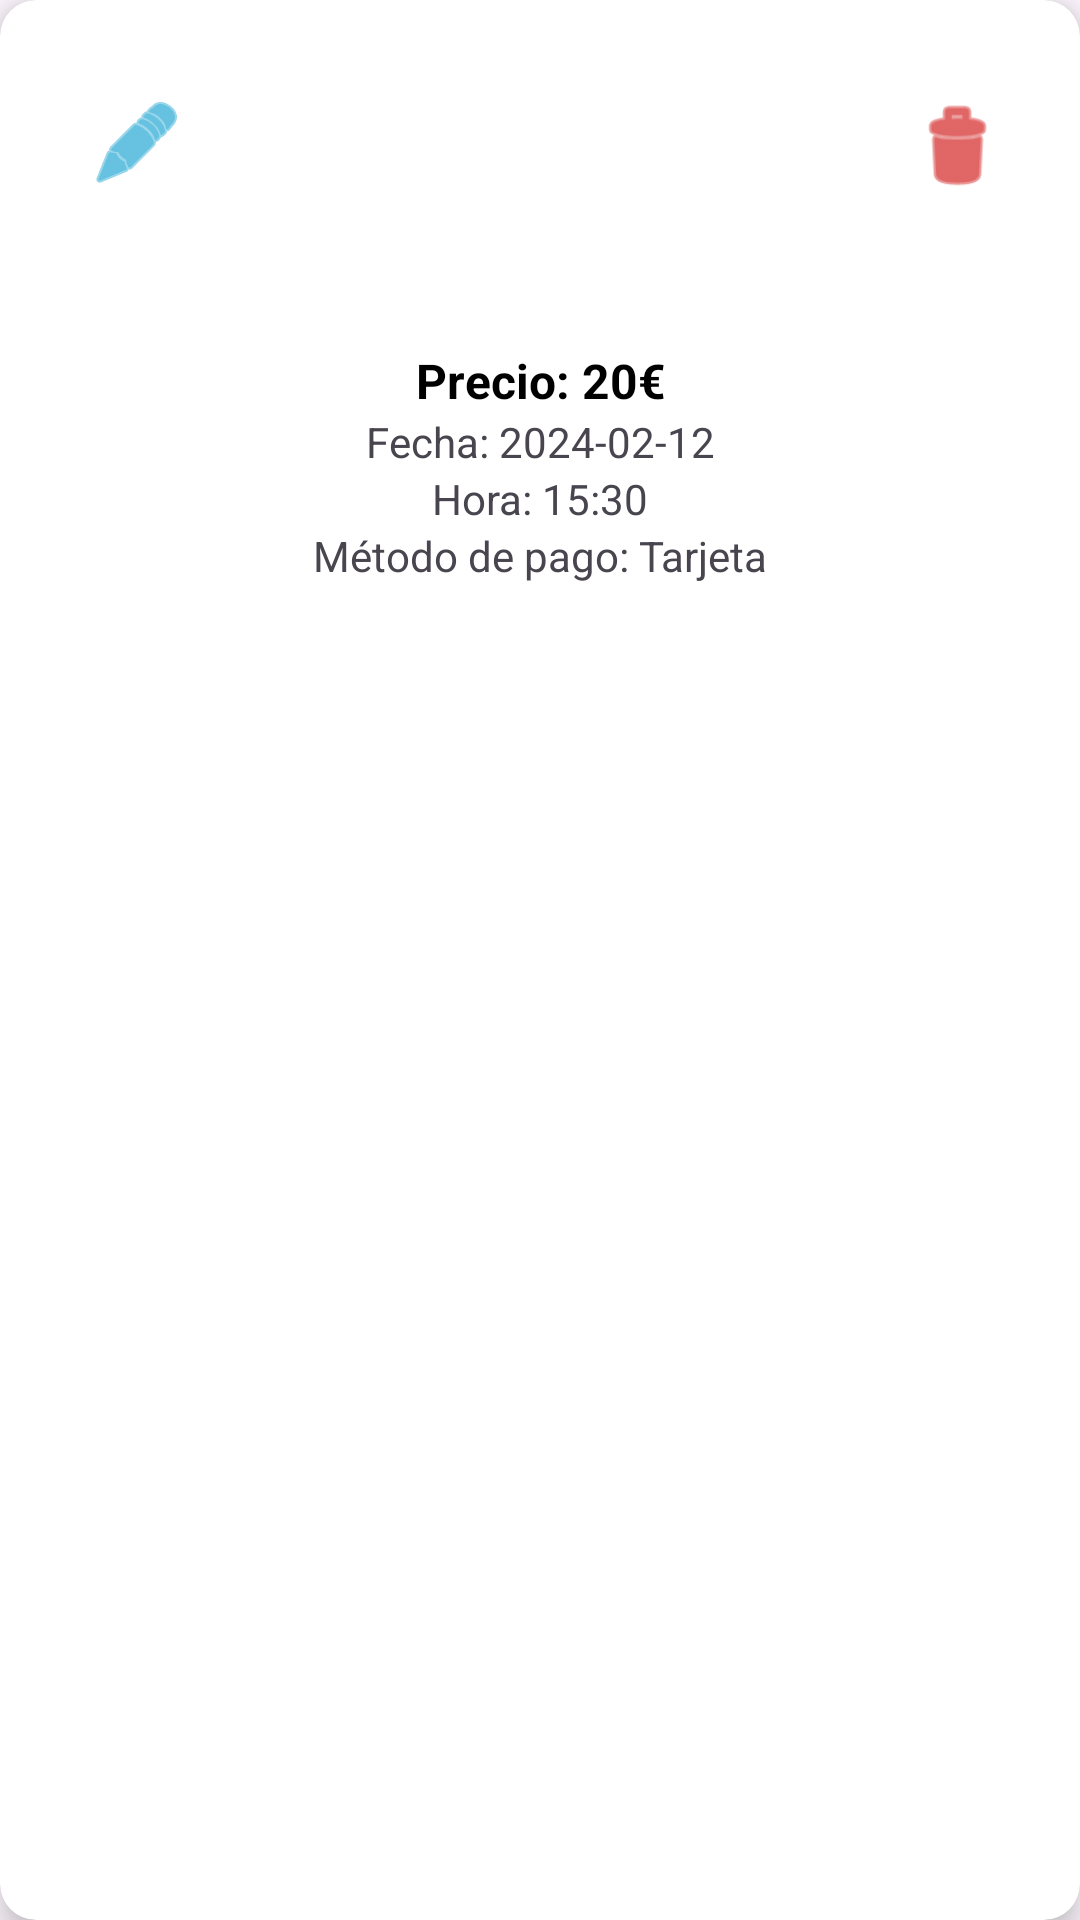

Where icons sit on this 1080w x 1920h app screen, as (x1, y1, x2, y2):
delete: (929, 105, 987, 185)
Editar reserva: (96, 102, 177, 183)
